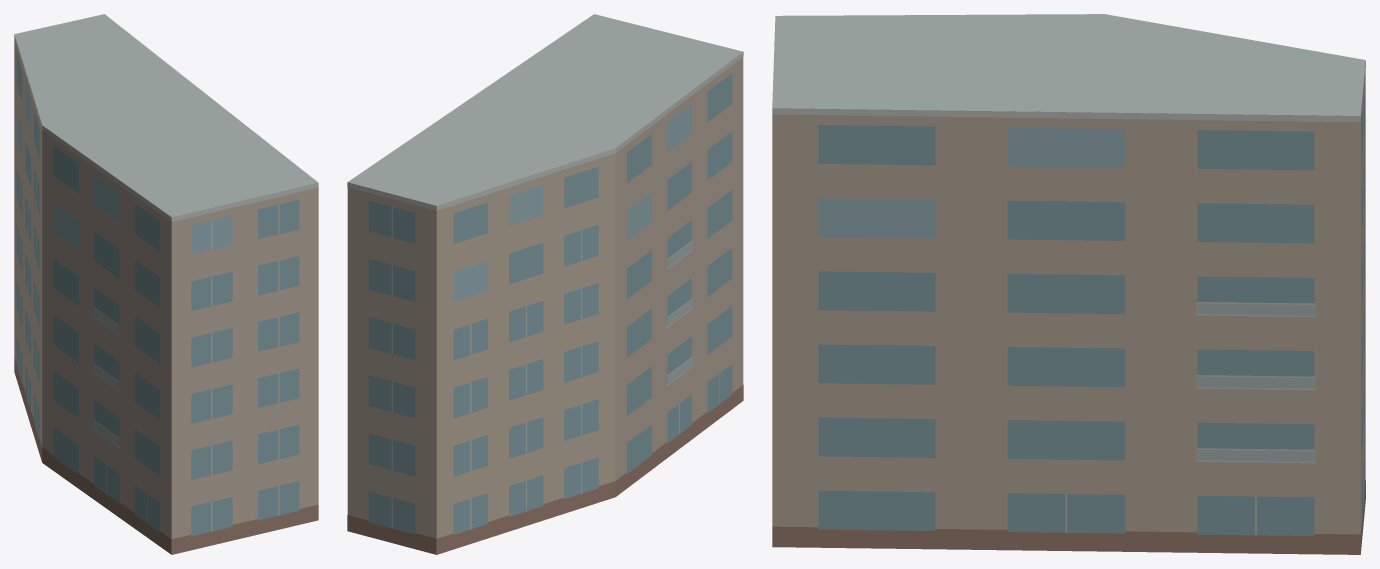
The model's file is survey-upis-32977812.glb.
3 renders of one model, left to right at view 1: azimuth 30°, elevation 25°; view 2: azimuth 150°, elevation 25°; view 3: azimuth 270°, elevation 25°, orthographic. The views are drawn at different scales.
Parts seen in each view (by area): view 1: survey-upis-32977812.tmp; view 2: survey-upis-32977812.tmp; view 3: survey-upis-32977812.tmp.
Boxes of the visible parts, box(x1,y1,x2,y2) form: survey-upis-32977812.tmp: box(14, 14, 318, 554); survey-upis-32977812.tmp: box(347, 14, 743, 554); survey-upis-32977812.tmp: box(772, 14, 1365, 554).
Size of the model in its own units: 8.51 by 17.05 by 20.91.
